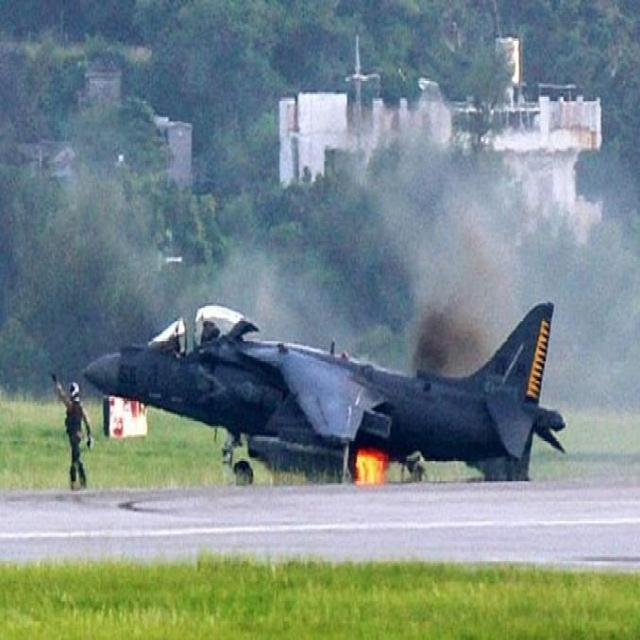Fire: (356, 449, 388, 485)
